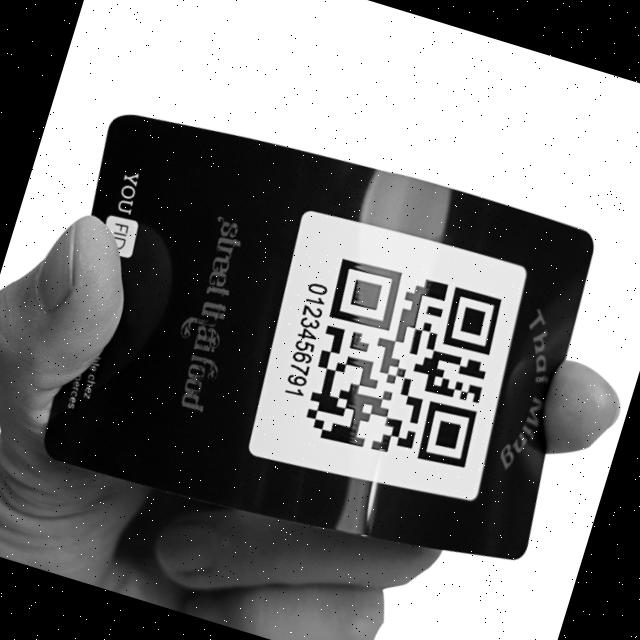QR-codes: (293, 250, 518, 481)
